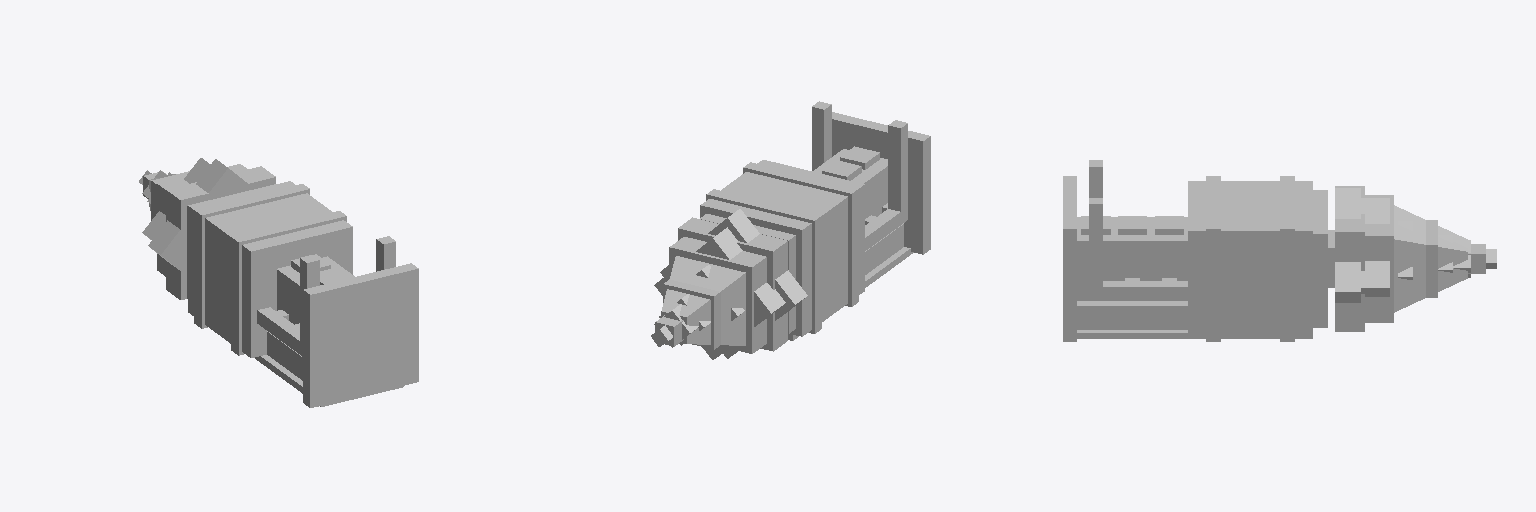
File: drill.obj
3 views of the same model, side by side, from view 1: azimuth 30°, elevation 25°; view 2: azimuth 150°, elevation 25°; view 3: azimuth 270°, elevation 25° (orthographic).
Visible parts, largest first — view 1: cube, $drill, exhaust_r, exhaust_l; view 2: cube, $drill, exhaust_r, exhaust_l; view 3: cube, $drill, exhaust_l, exhaust_r.
Part boxes in pixels (x1,y1,x2,y2): cube: (187, 181, 418, 407); $drill: (139, 158, 275, 299); exhaust_r: (300, 255, 319, 356); exhaust_l: (376, 236, 395, 271); cube: (700, 112, 930, 340); $drill: (651, 209, 807, 359); exhaust_r: (888, 120, 907, 224); exhaust_l: (812, 101, 831, 170); cube: (1063, 176, 1327, 341); $drill: (1328, 186, 1496, 331); exhaust_l: (1089, 198, 1102, 300); exhaust_r: (1089, 160, 1102, 197).
Bounding box in the file's own units: 2.65 × 2.76 × 7.38.